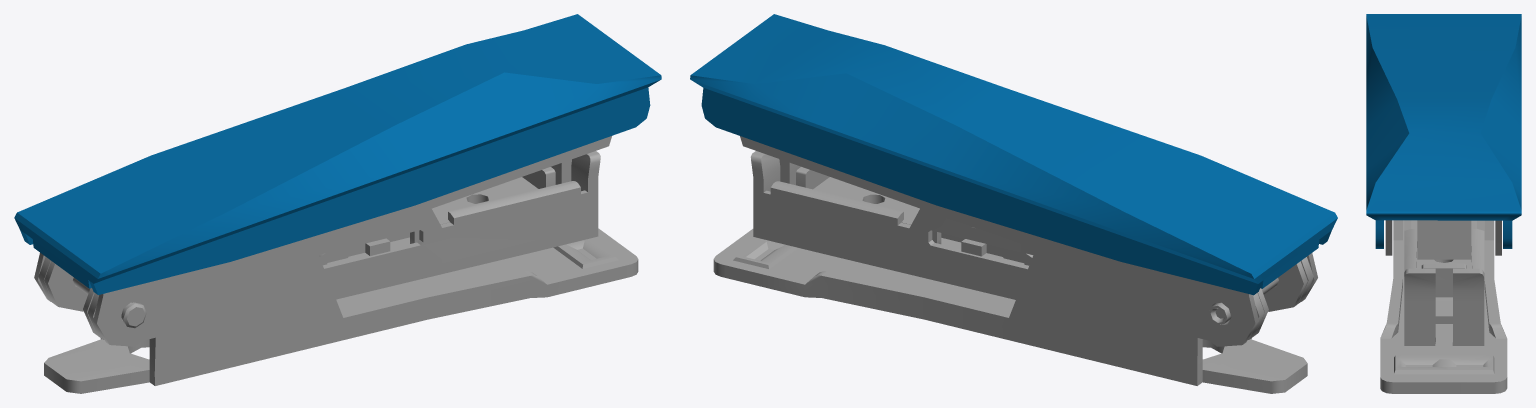
The picture shows the model from 3 angles, left to right: view 1: azimuth 30°, elevation 25°; view 2: azimuth 150°, elevation 25°; view 3: azimuth 270°, elevation 25°; orthographic projection. The views are drawn at different scales.
Parts seen in each view (by area): view 1: Top_low1, Bottom_low1, Center_low1, Top_plane_low1, Center_plane_low1, Cylinder_low1; view 2: Top_low1, Bottom_low1, Center_low1, Top_plane_low1, Center_plane_low1; view 3: Top_low1, Bottom_low1, Center_low1, Top_press_low1, Center_plane_low1, Top_plane_low1.
Boxes of the visible parts, x1,y1,x2,y2 form: Top_low1: [14, 14, 661, 294]; Bottom_low1: [38, 228, 638, 393]; Center_low1: [44, 151, 600, 335]; Top_plane_low1: [34, 136, 611, 346]; Center_plane_low1: [319, 167, 555, 265]; Cylinder_low1: [73, 277, 146, 328]; Top_low1: [690, 14, 1337, 295]; Bottom_low1: [713, 229, 1313, 393]; Center_low1: [750, 151, 1307, 335]; Top_plane_low1: [740, 136, 1317, 346]; Center_plane_low1: [796, 167, 1033, 265]; Top_low1: [1366, 14, 1521, 248]; Bottom_low1: [1380, 220, 1507, 393]; Center_low1: [1404, 220, 1484, 345]; Top_press_low1: [1417, 220, 1471, 259]; Center_plane_low1: [1413, 222, 1475, 297]; Top_plane_low1: [1385, 220, 1501, 255].
Size of the model in its own units: 1.11 by 0.415 by 0.2853.
